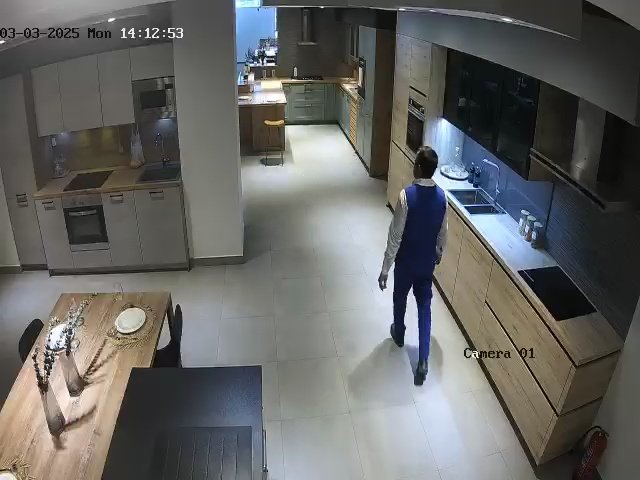employee: (377, 146, 449, 386)
